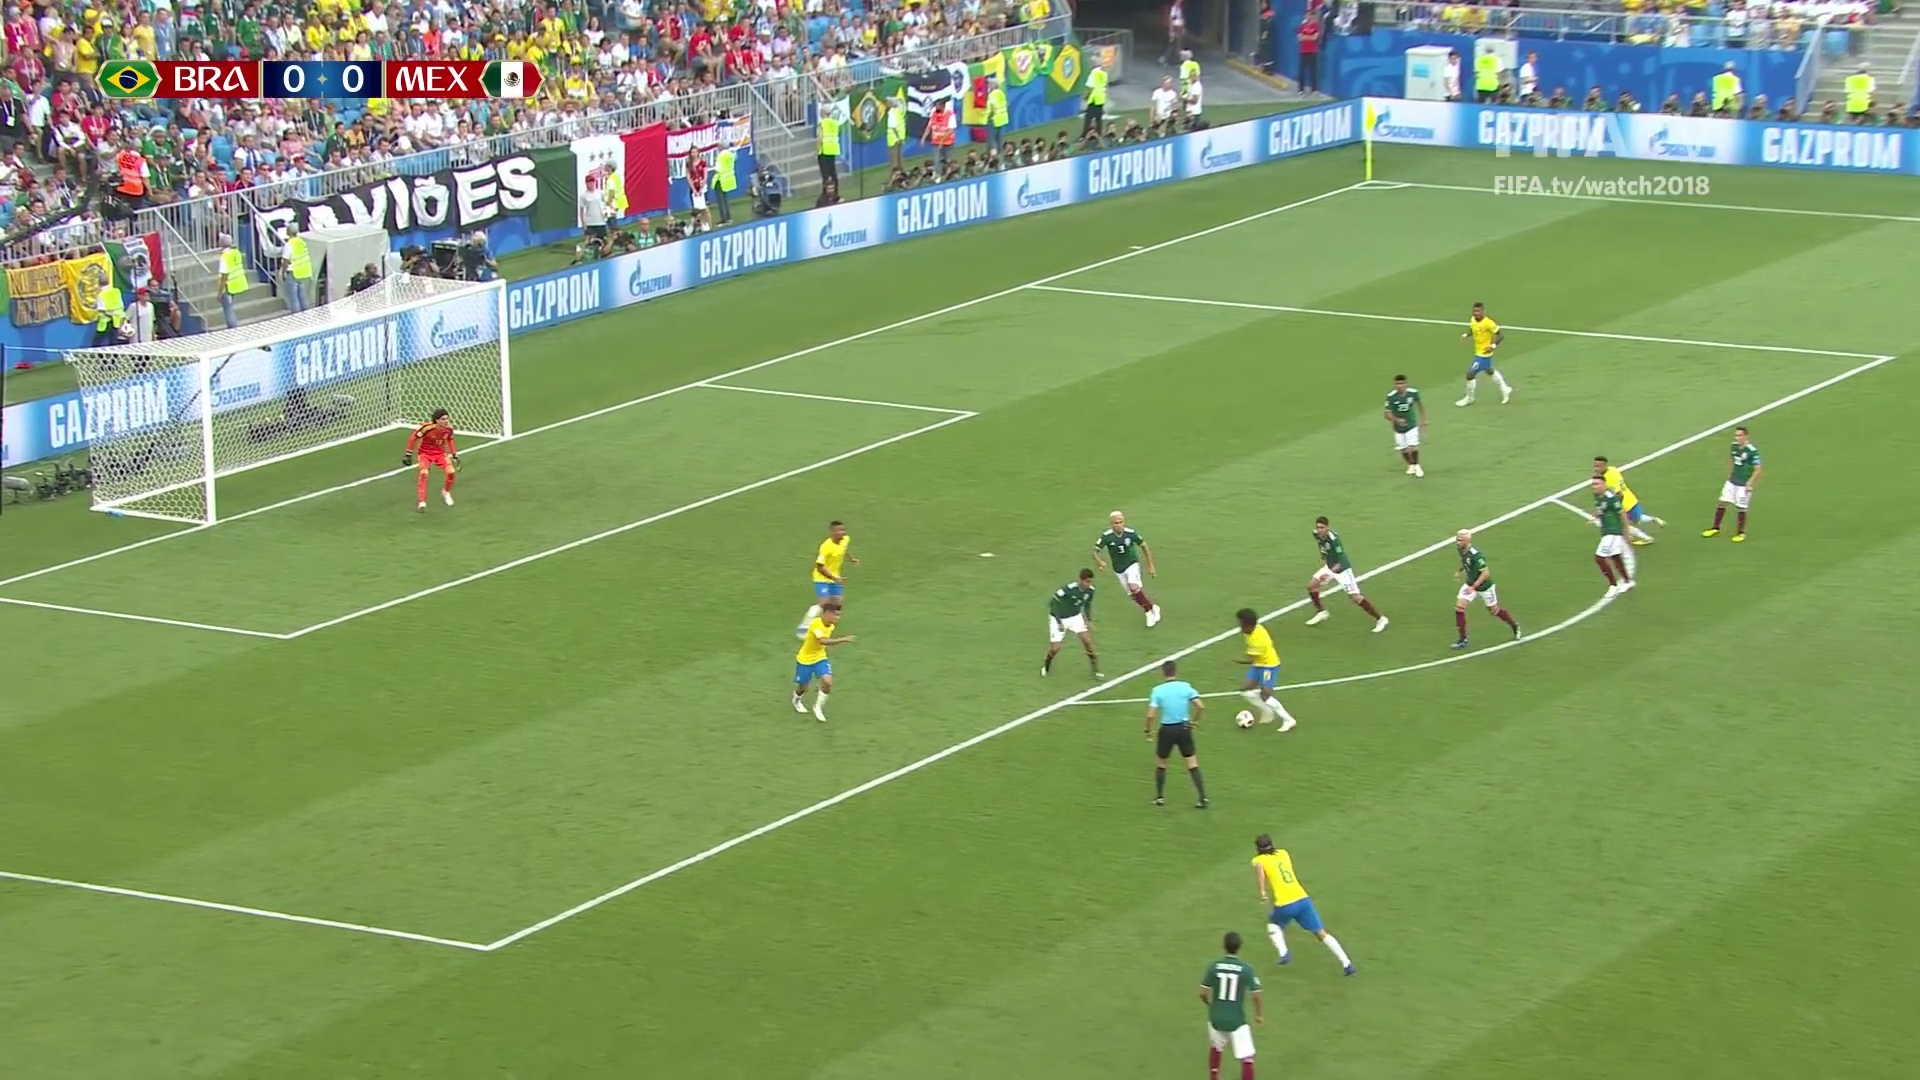ball: (1305, 517, 1388, 636), (1387, 377, 1422, 478), (1238, 710, 1254, 729)
person: (1254, 836, 1357, 978), (1200, 933, 1261, 1080), (1041, 568, 1106, 680), (1454, 531, 1519, 645), (1240, 611, 1299, 733), (1101, 513, 1160, 626), (1597, 456, 1666, 544), (403, 409, 459, 509), (792, 599, 839, 718), (1461, 304, 1512, 407), (1709, 429, 1754, 541), (1591, 478, 1632, 595), (811, 520, 862, 611)
